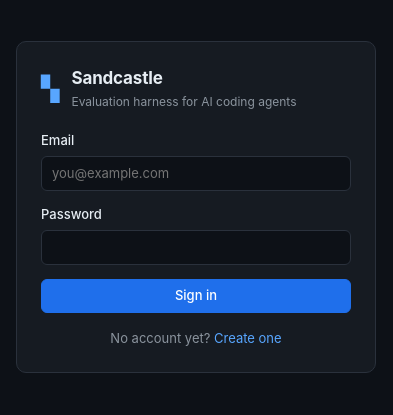
it: sign in › surfaces the server error instead of silently failing
In the field labelled "Email": (196,174) [41,156,351,191], type "owner@example.com"
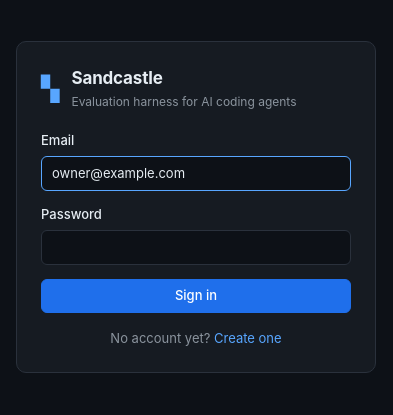
In the password field labelled "Password": (196,248) [41,230,351,265], type "wrong"
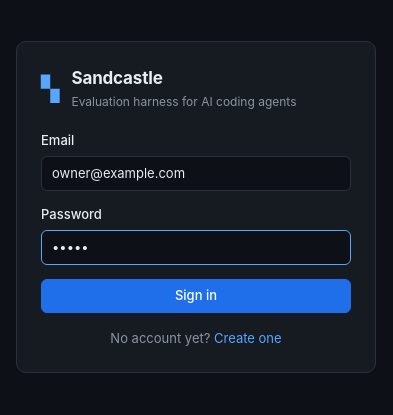
Click the button "Sign in": (196,296) [41,279,351,313]
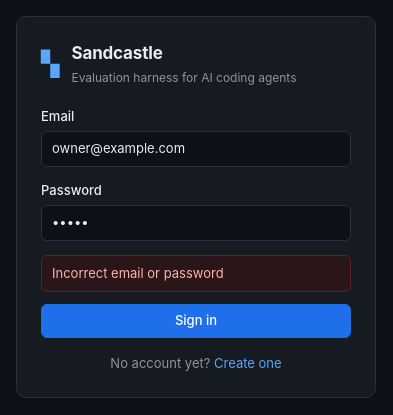
Result: the text "Incorrect email or password" is shown at [41,254,351,292]
